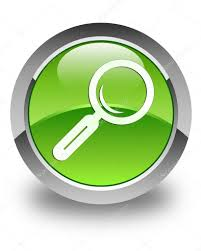searchIcon: (50, 58, 158, 165)
